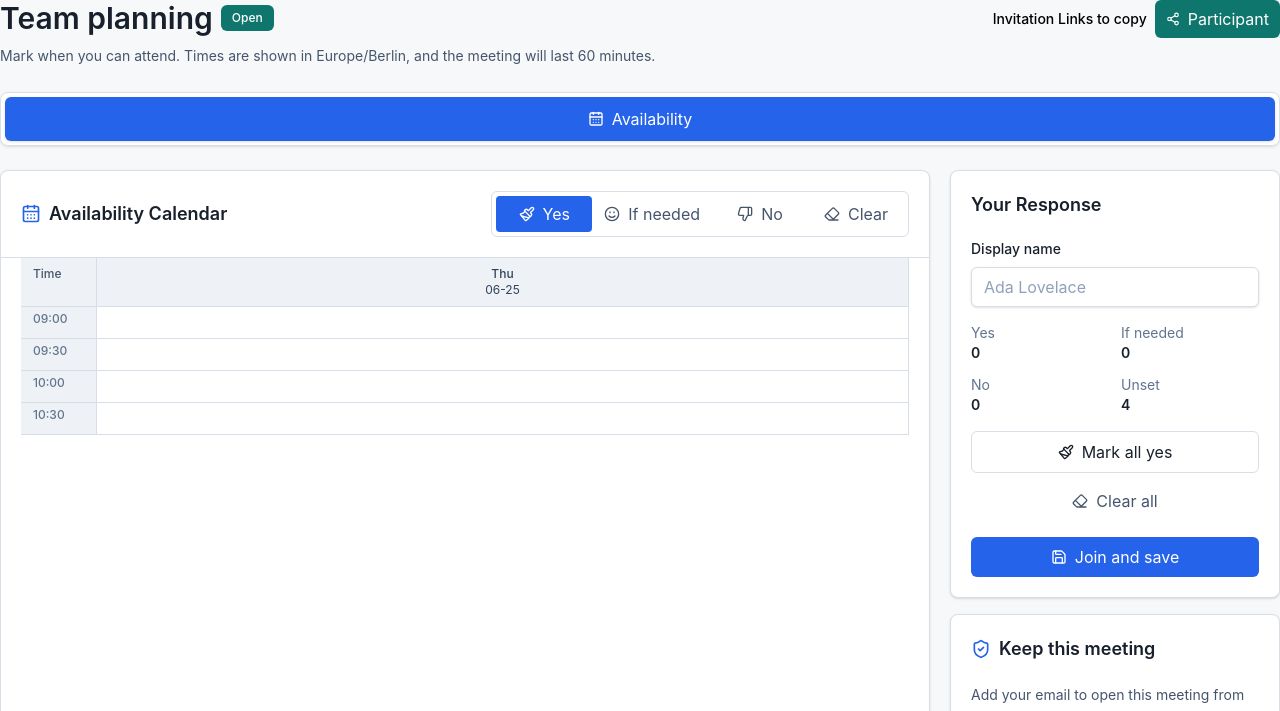
ParticipantAvailabilityPainter › requires a display name before creating a public-link membership
Click the button "Join and save" at (1115, 557), box x1=971 y1=537 x2=1259 y2=577
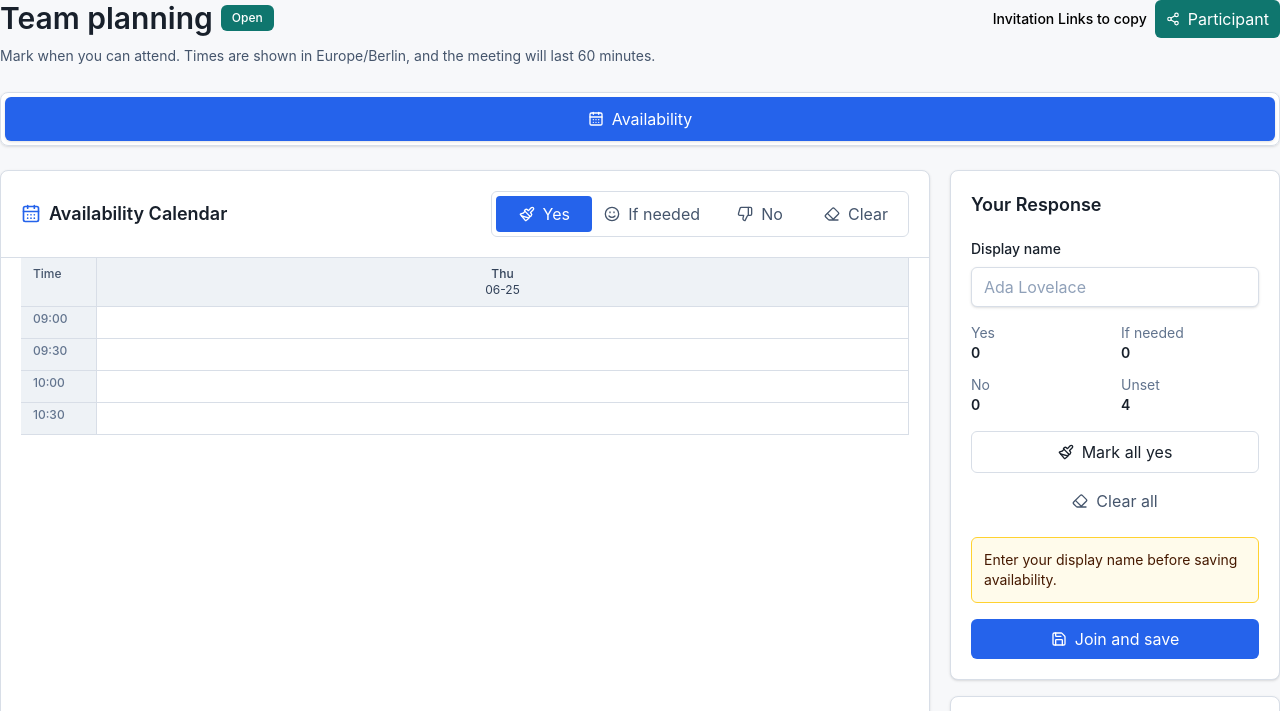
expect the text "Enter your display name before saving availability." is shown: met, box x1=971 y1=537 x2=1259 y2=603
